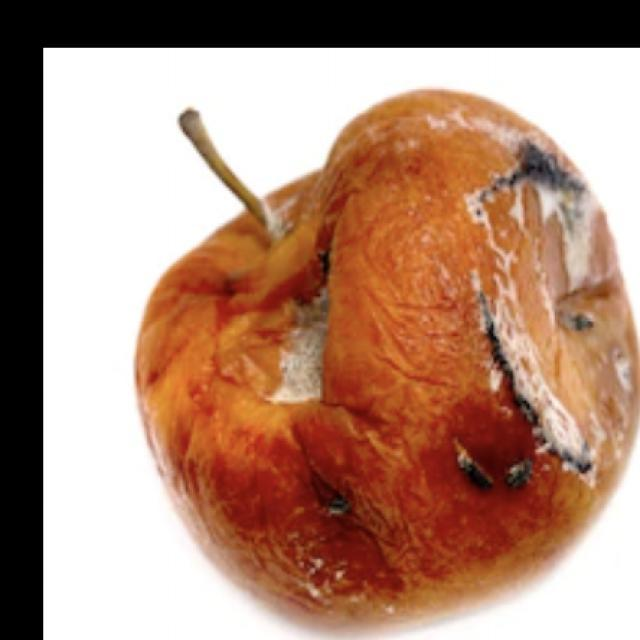Rotten: (136, 90, 640, 640)
